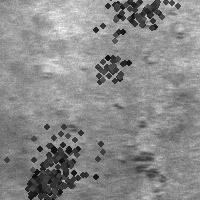rolled-in_scale: (14, 112, 104, 200), (79, 0, 169, 57), (121, 119, 168, 199), (28, 149, 82, 200), (85, 42, 135, 92), (10, 156, 66, 200), (143, 9, 186, 64), (113, 0, 173, 36)
